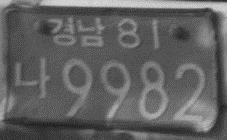1: (149, 16, 162, 51)
2: (172, 59, 207, 122)
8: (136, 59, 169, 122), (115, 17, 141, 50)
9: (60, 56, 95, 120), (97, 58, 132, 121)
경남_O: (46, 16, 107, 49)
나: (12, 54, 53, 100)
